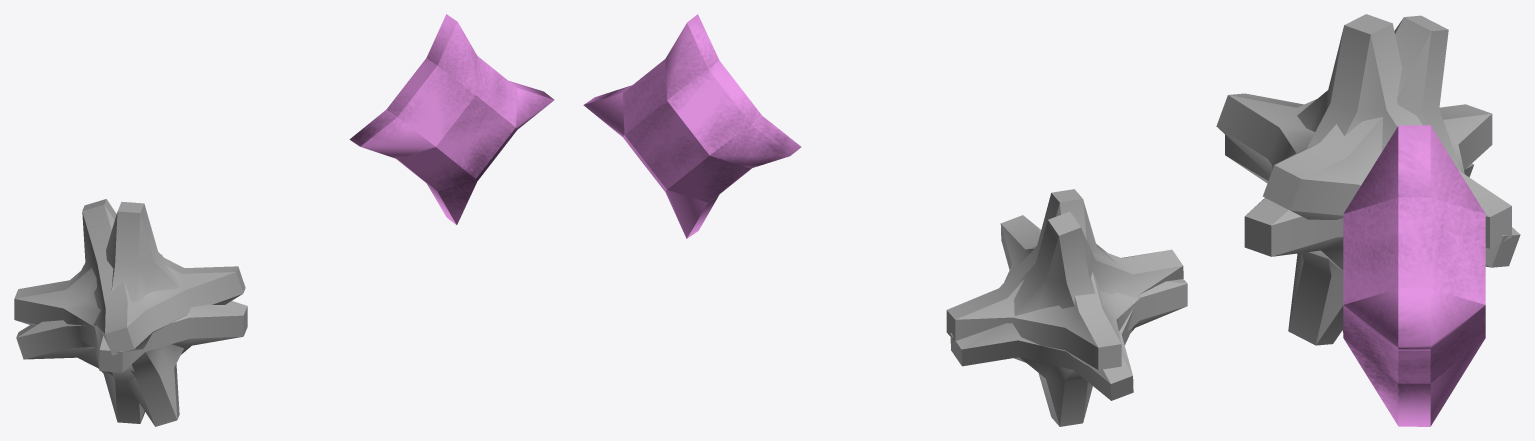
File: GON-npc-2D.fbx
3 views of the same model, side by side, from view 1: azimuth 30°, elevation 25°; view 2: azimuth 150°, elevation 25°; view 3: azimuth 270°, elevation 25° (orthographic). The views are drawn at different scales.
Parts seen in each view (by area): view 1: pasted__pCube11, pasted__pCube14, pasted__pCube13; view 2: pasted__pCube11, pasted__pCube13, pasted__pCube14; view 3: pasted__pCube11, pasted__pCube14, pasted__pCube13.
Boxes of the visible parts, x1=… form: pasted__pCube11: x1=349, y1=14, x2=554, y2=224; pasted__pCube14: x1=16, y1=199, x2=245, y2=426; pasted__pCube13: x1=14, y1=201, x2=247, y2=423; pasted__pCube11: x1=583, y1=14, x2=801, y2=238; pasted__pCube13: x1=946, y1=189, x2=1187, y2=426; pasted__pCube14: x1=950, y1=211, x2=1183, y2=400; pasted__pCube11: x1=1343, y1=125, x2=1485, y2=426; pasted__pCube14: x1=1216, y1=15, x2=1520, y2=345; pasted__pCube13: x1=1225, y1=14, x2=1511, y2=332.
Size of the model in its own units: 11.08 by 6.22 by 3.77.
Materials: 2 (1 with a texture image).
